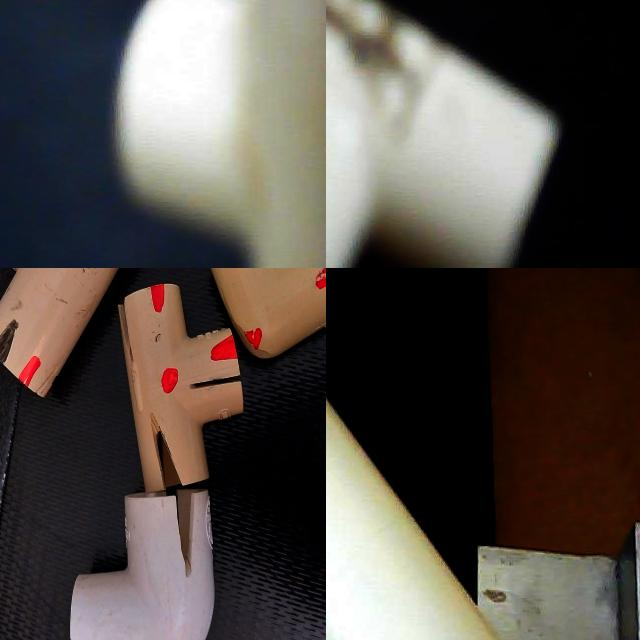Defective: (326, 0, 417, 101), (177, 460, 230, 511), (168, 338, 192, 384), (52, 376, 78, 407), (48, 589, 63, 640), (68, 341, 98, 366), (0, 557, 22, 581), (47, 564, 67, 586), (106, 551, 128, 569), (73, 629, 88, 640)
T Joint: (326, 0, 563, 268), (42, 326, 238, 564), (326, 395, 500, 640), (0, 498, 137, 640)
